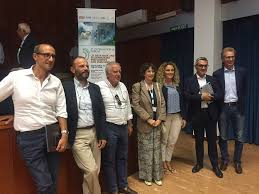C_jeans: (218, 101, 245, 163)
F_M_suit jacket: (58, 80, 110, 141), (213, 66, 248, 113), (185, 73, 219, 120)
F_belt: (218, 99, 243, 109)
F_dress pants: (191, 113, 218, 168)
F_shirt: (2, 64, 68, 131)
